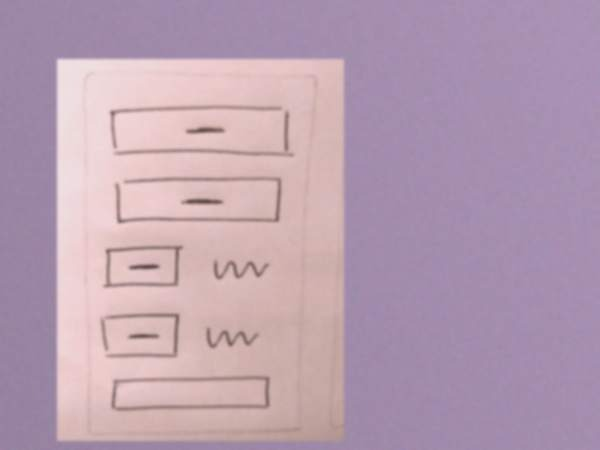button: (104, 102, 296, 164), (110, 174, 285, 230), (97, 310, 185, 363), (100, 243, 187, 293)
text: (200, 321, 261, 356), (206, 254, 269, 286)
text_input: (105, 375, 275, 417)
